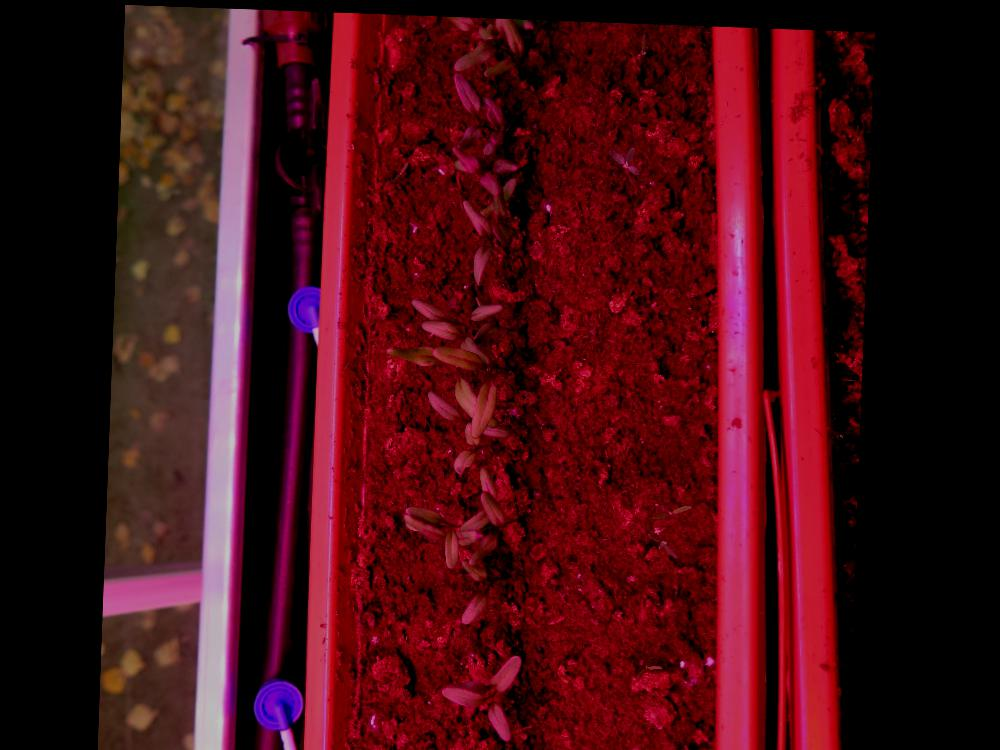weed: (603, 140, 643, 175), (647, 528, 682, 554), (653, 498, 696, 517), (633, 26, 650, 65), (639, 659, 668, 678), (391, 158, 410, 182)
